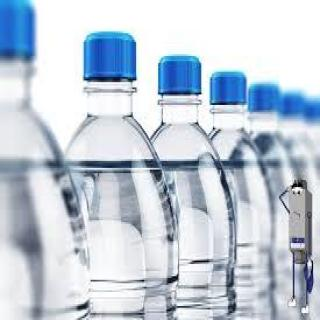Plastic-bottle: (65, 27, 181, 320), (1, 2, 95, 320), (149, 50, 240, 320), (208, 58, 279, 320)
